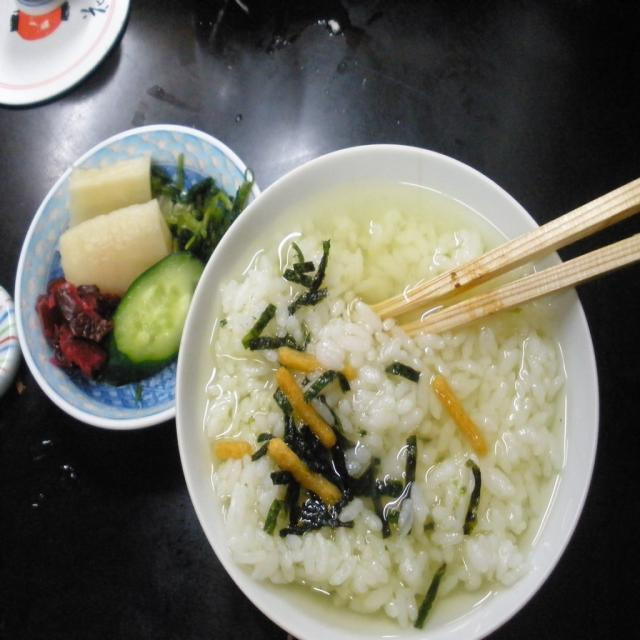non-organic waste: (203, 80, 588, 640), (8, 110, 313, 452), (0, 0, 161, 100)
